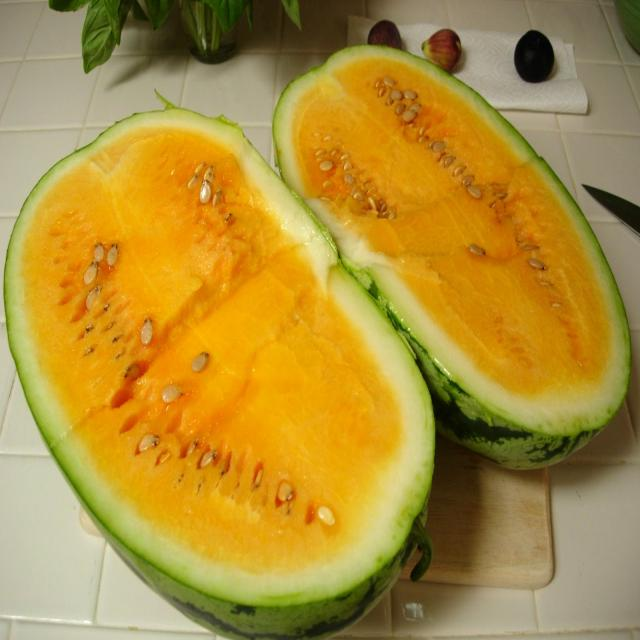watermelon: (0, 24, 621, 640)
